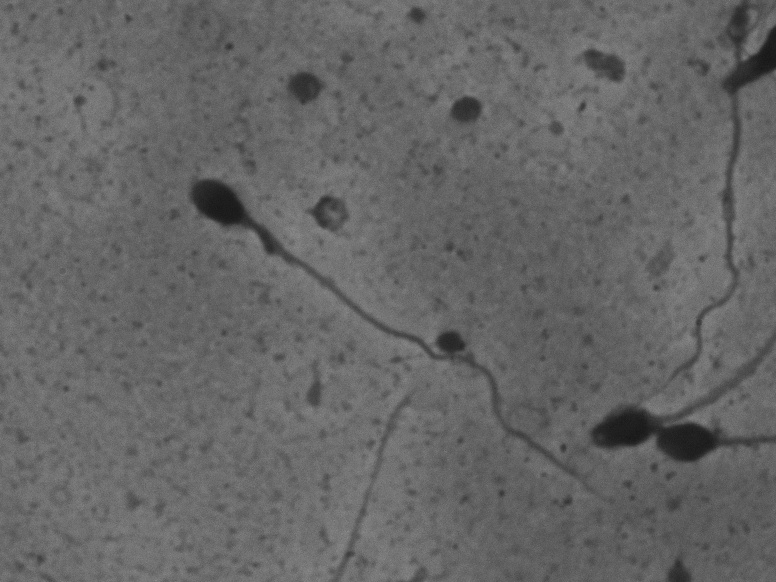Normal: (178, 164, 629, 512)
